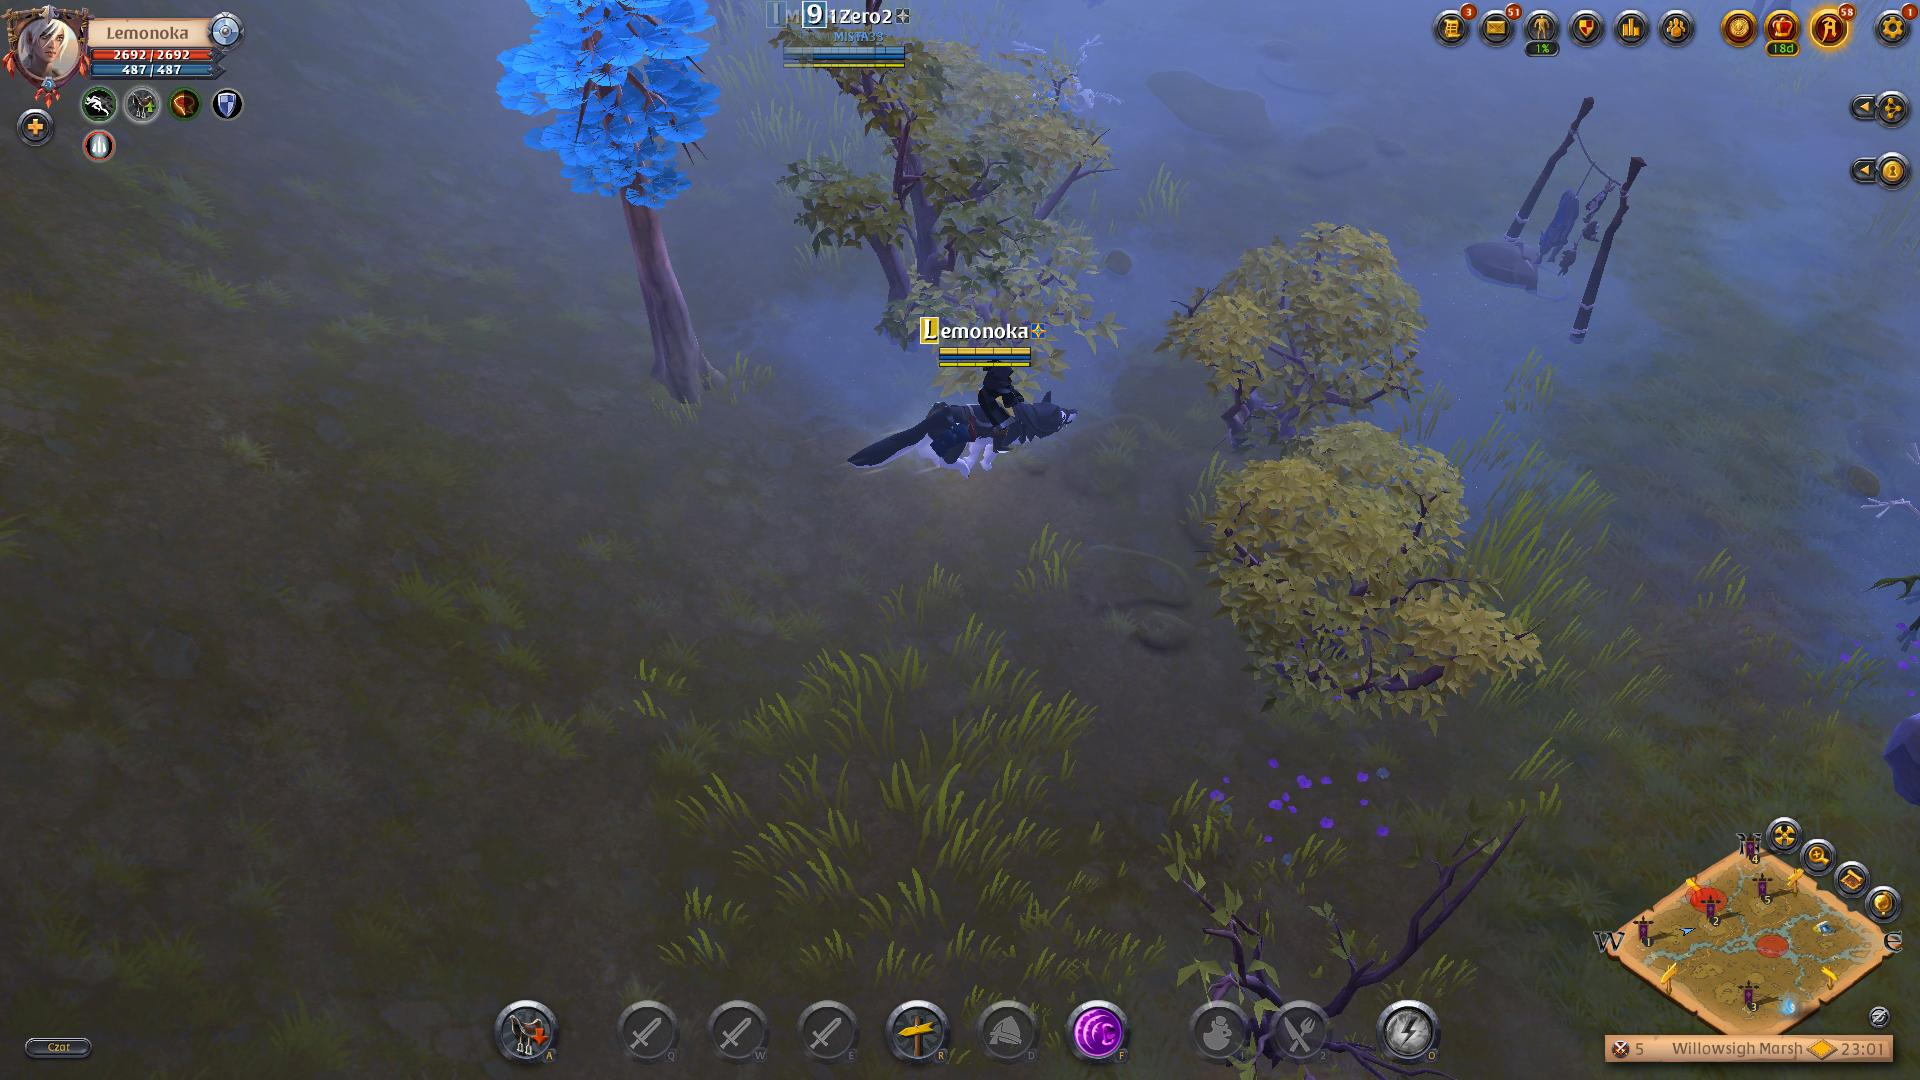wood tier 4: (498, 0, 724, 219)
